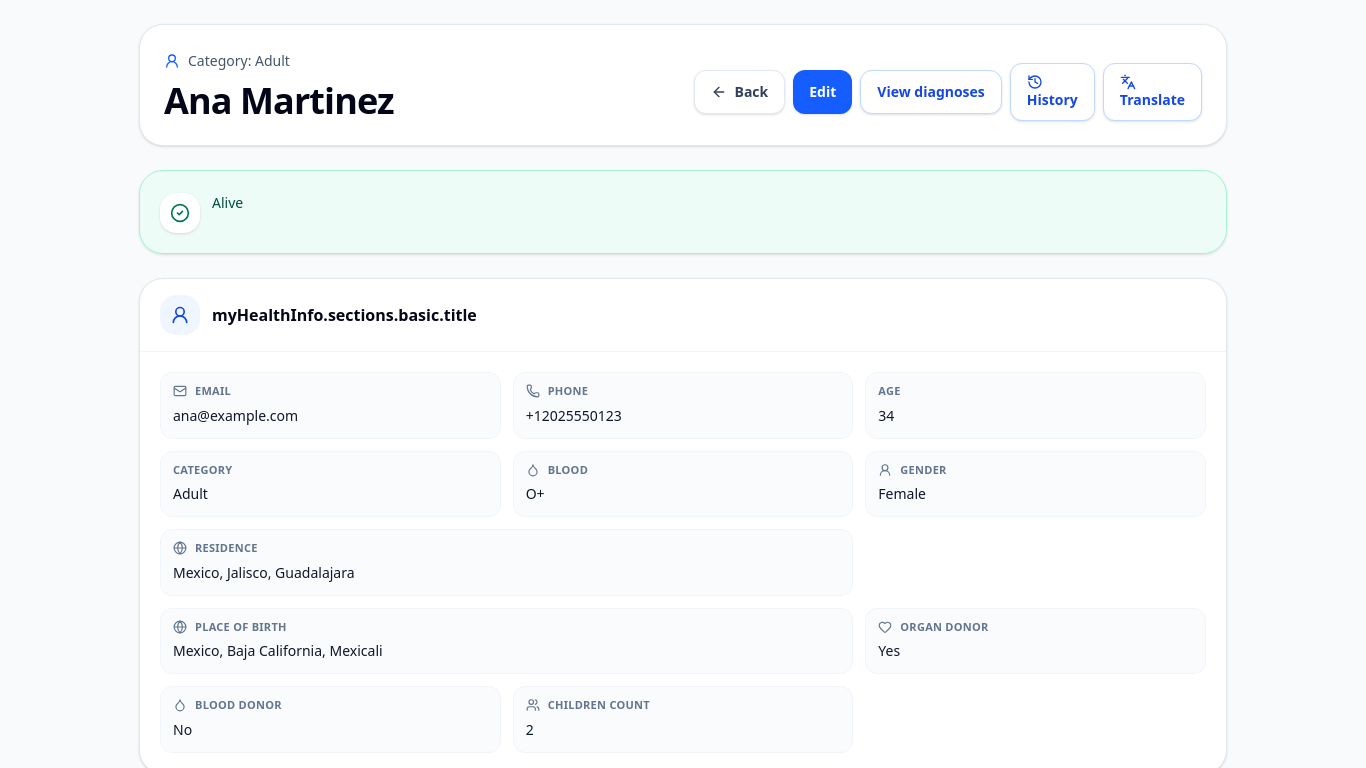
Test: PatientDetailPage › translates patient details and replaces displayed data on success
Step 1. Click the button "Translate" → (1152,92), box [1103, 63, 1202, 121]
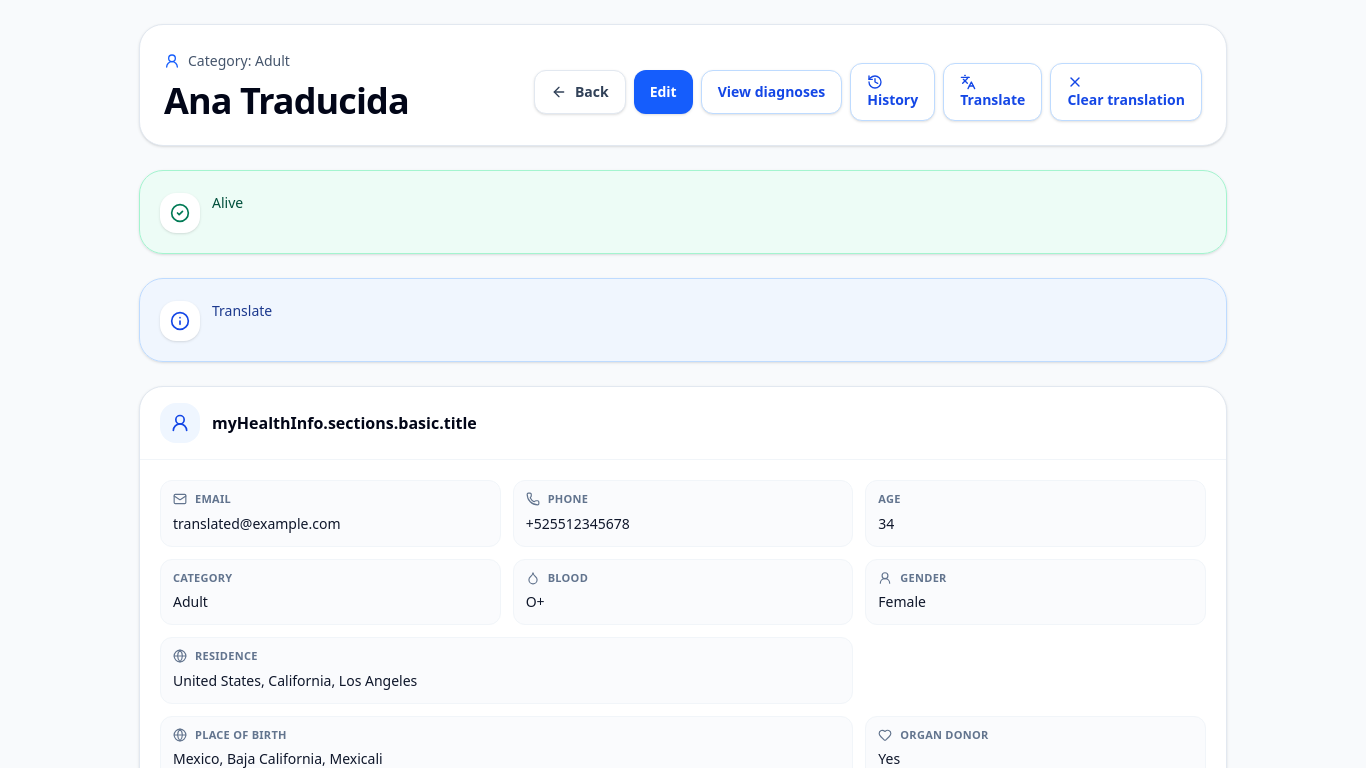
expect the heading "Ana Traducida" is shown: met, box [164, 81, 409, 121]
expect the text "translated@example.com" is shown: met, box [173, 514, 340, 532]
expect the text "United States, California, Los Angeles" is shown: met, box [173, 670, 417, 690]
Step 2. Click the button "Clear translation" → (1126,92), box [1050, 63, 1202, 121]
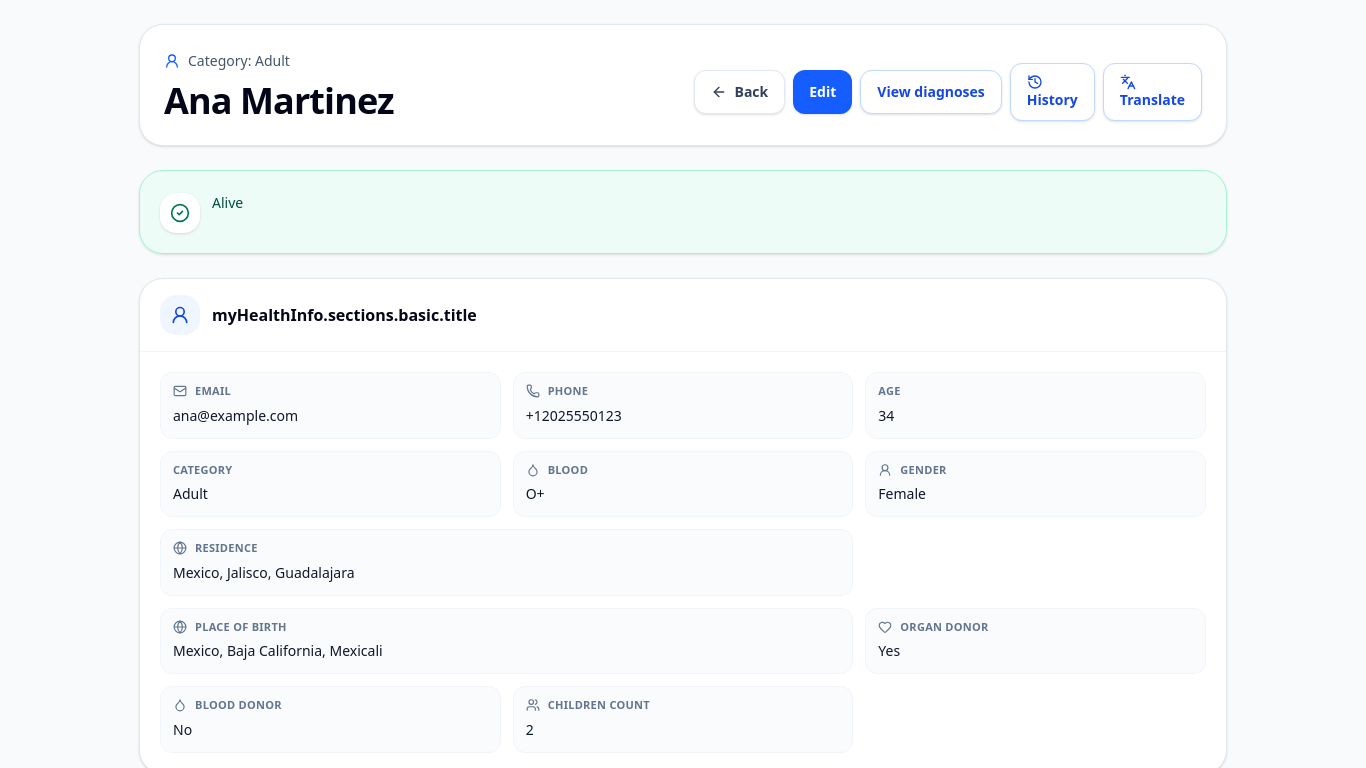
expect the heading "Ana Martinez" is shown: met, box [164, 81, 394, 121]
expect the button "Clear translation" is gone: met
